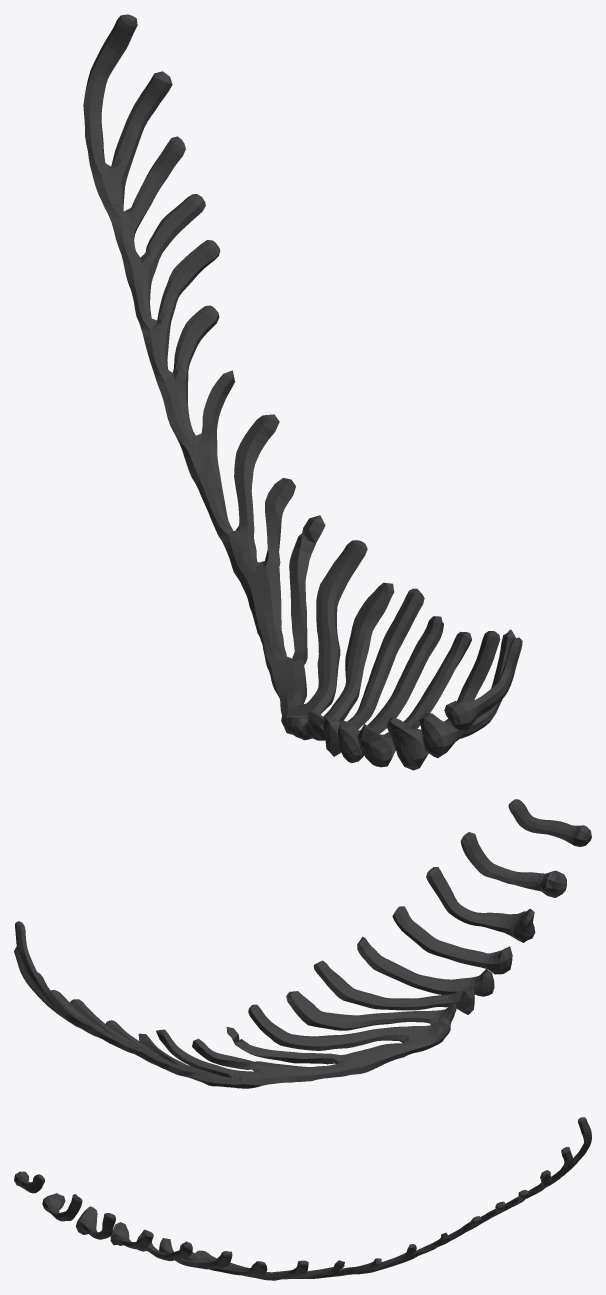
The model's file is Costal_Cartilages_L.glb.
The picture shows the model from 3 angles, top to bottom: view 1: azimuth 30°, elevation 25°; view 2: azimuth 150°, elevation 25°; view 3: azimuth 270°, elevation 25°; orthographic projection. The views are drawn at different scales.
Visible parts, largest first — view 1: Costal_Cartilages_L; view 2: Costal_Cartilages_L; view 3: Costal_Cartilages_L.
Part boxes in pixels (bbox=[...]): Costal_Cartilages_L: bbox=[83, 14, 522, 770]; Costal_Cartilages_L: bbox=[14, 799, 591, 1088]; Costal_Cartilages_L: bbox=[14, 1117, 591, 1280].
Size of the model in its own units: 0.2879 by 0.4179 by 1.09.
Materials: 1 (1 with a texture image).
